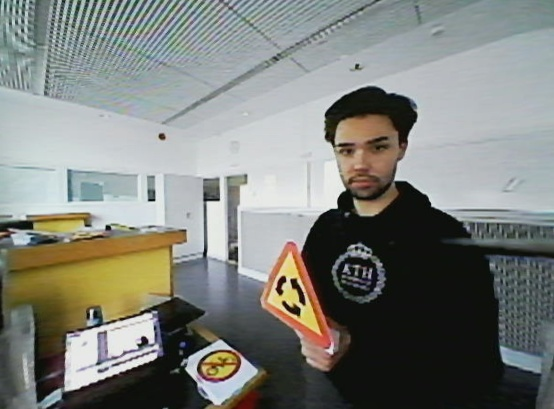roundabout_warning: (257, 239, 333, 355)
